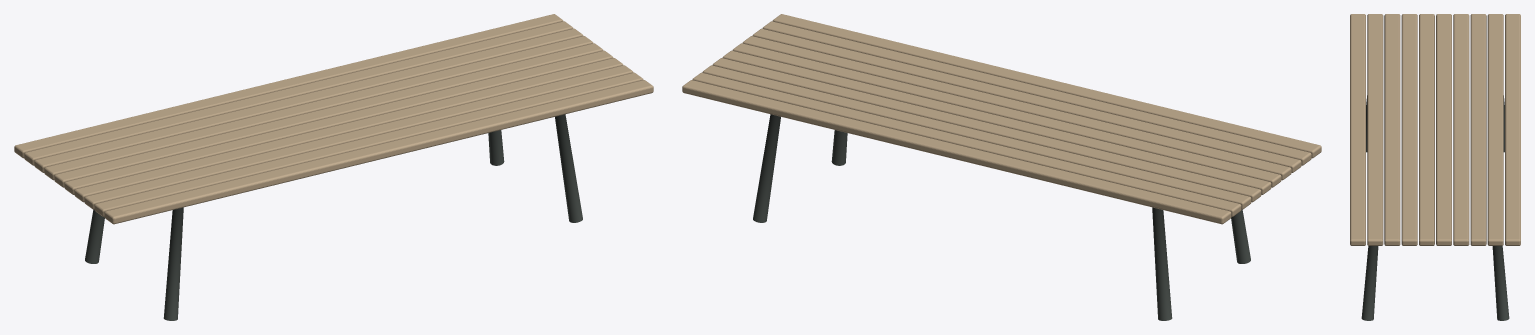
Rendered from slat-dining.glb.
3 views of the same model, side by side, from view 1: azimuth 30°, elevation 25°; view 2: azimuth 150°, elevation 25°; view 3: azimuth 270°, elevation 25° (orthographic). The views are drawn at different scales.
Visible parts, largest first — view 1: slat-dining; view 2: slat-dining; view 3: slat-dining.
Boxes of the visible parts, x1=… form: slat-dining: x1=14, y1=14, x2=653, y2=320; slat-dining: x1=682, y1=14, x2=1321, y2=320; slat-dining: x1=1350, y1=14, x2=1520, y2=320.
Bounding box in the file's own units: 3.43 × 0.7624 × 1.09.
